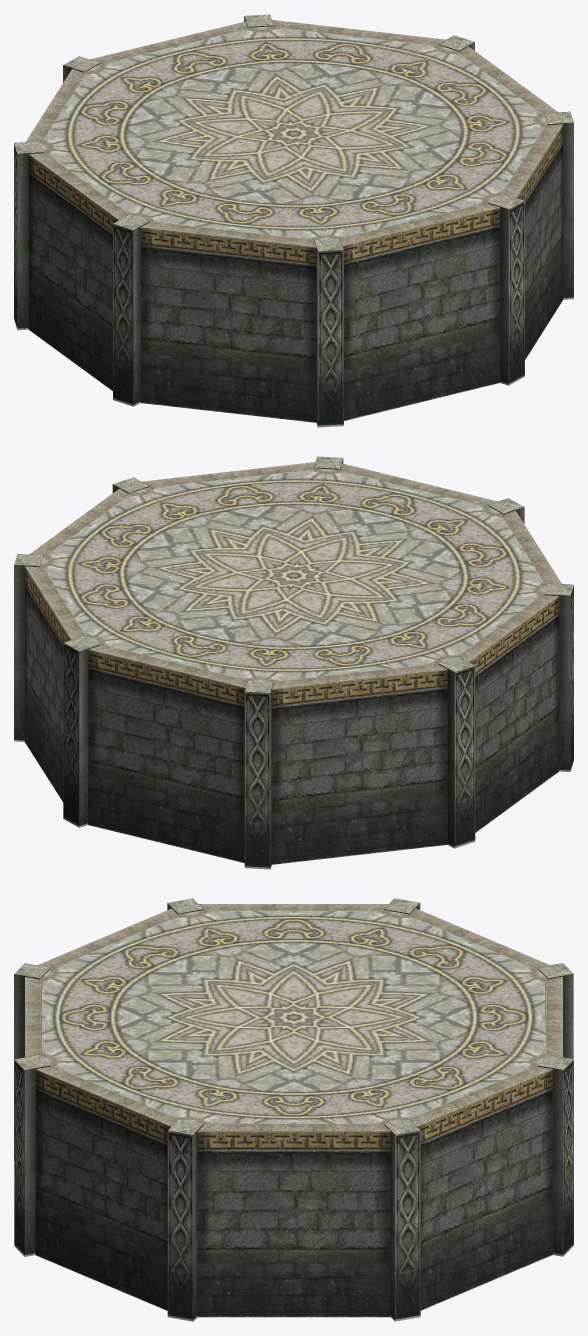
File: otherworld_floor_00.fbx
The picture shows the model from 3 angles, top to bottom: view 1: azimuth 30°, elevation 25°; view 2: azimuth 150°, elevation 25°; view 3: azimuth 270°, elevation 25°; orthographic projection. The views are drawn at different scales.
Visible parts, largest first — view 1: otherworld_floor_00; view 2: otherworld_floor_00; view 3: otherworld_floor_00.
Part boxes in pixels (x1,y1,x2,y2): otherworld_floor_00: [14, 14, 573, 427]; otherworld_floor_00: [14, 456, 573, 869]; otherworld_floor_00: [14, 898, 573, 1321].
Bounding box in the file's own units: 28.25 × 10.4 × 28.25.
